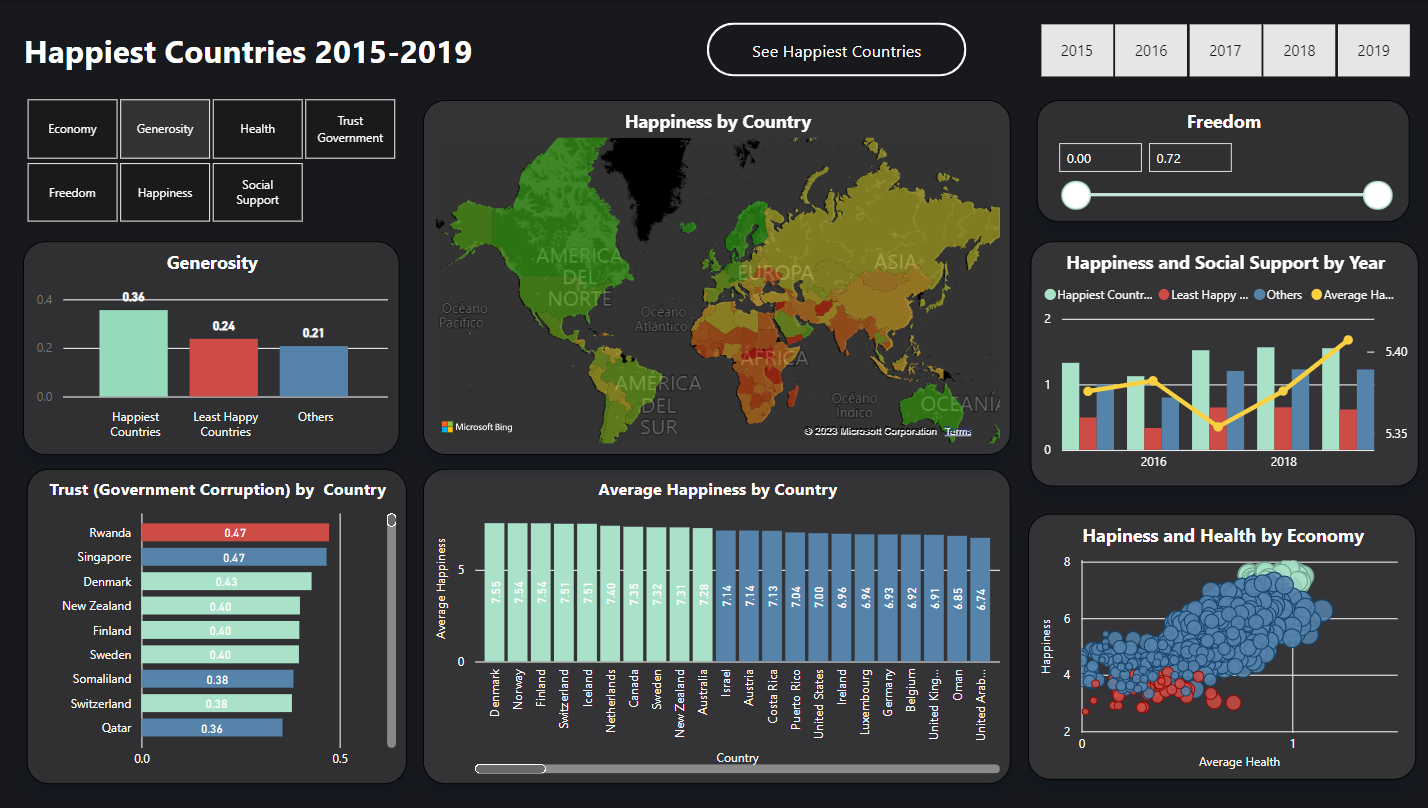

The page's visual inventory and layout, read from the dashboard file:
{"tool":"powerbi","page":{"name":"World Happiness","canvas":[1280,720],"ordinal":0},"visuals":[{"type":"shape","box":[0,0,1279.6,89.2],"z":0},{"type":"scatterChart","title":"Hapiness and Health by Economy","fields":{"Y":["Happiness.Happiness"],"Size":["Avg(Happiness.Economy (GDP per Capita))"],"Series":["Happiness.Country (grupos)"],"X":["Dax Medidas .Average Health"]},"box":[917.5,457.3,345.8,237.1],"z":1000},{"type":"clusteredColumnChart","fields":{"Category":["Happiness.Country (grupos)"],"Y":["Dax Medidas .Total Selección"]},"box":[21.7,214.7,335.3,190.6],"z":3000},{"type":"slicer","title":"Freedom","fields":{"Values":["Happiness.Freedom"]},"box":[924.6,88.9,331.7,108.7],"z":4000},{"type":"columnChart","title":"Average Happiness by Country","fields":{"Category":["Happiness.Country"],"Y":["Dax Medidas .Average Happiness"],"Series":["Happiness.Country (grupos)"]},"box":[378.7,417.3,523.4,281],"z":5000},{"type":"barChart","title":"Trust (Government Corruption) by  Country","fields":{"Series":["Happiness.Country (grupos)"],"Category":["Happiness.Country"],"Y":["Dax Medidas .Average Trust(Government Corruption)"]},"box":[25.4,417.8,338.8,280.9],"z":6000},{"type":"lineClusteredColumnComboChart","title":"Happiness and Social Support by Year","fields":{"Category":["Happiness.Year"],"Y":["Dax Medidas .Average Social Support"],"Series":["Happiness.Country (grupos)"],"Y2":["Dax Medidas .Average Happiness"]},"box":[918.9,214.6,345.8,218.8],"z":7000},{"type":"slicer","fields":{"Values":["Happiness.Year"]},"box":[902.5,13.7,377.8,60.4],"z":8000},{"type":"actionButton","title":"All","box":[630.8,20.5,231.6,48.2],"z":9000},{"type":"filledMap","title":"Happiness by Country ","fields":{"Category":["Happiness.Country"]},"box":[378.7,89.2,523.4,316],"z":10000},{"type":"slicer","fields":{"Values":["metrics.Column2"]},"box":[0,81.4,377.9,123.3],"z":12000}]}

Visuals, with their boxes in screenshot pixels (x1, y1, x2, y2), scaled from the page's 1280x720 canvas onto the 1428x808 screenshot:
shape: <box>0,0,1427,100</box>
"Hapiness and Health by Economy" scatterChart: <box>1024,513,1409,779</box>
clusteredColumnChart - Happiness.Country (grupos) x Dax Medidas .Total Selección: <box>24,241,398,455</box>
"Freedom" slicer: <box>1032,100,1402,222</box>
"Average Happiness by Country" columnChart: <box>422,468,1006,784</box>
"Trust (Government Corruption) by  Country" barChart: <box>28,469,406,784</box>
"Happiness and Social Support by Year" lineClusteredColumnComboChart: <box>1025,241,1411,486</box>
slicer - Happiness.Year: <box>1007,15,1427,83</box>
"All" actionButton: <box>704,23,962,77</box>
"Happiness by Country " filledMap: <box>422,100,1006,455</box>
slicer - metrics.Column2: <box>0,91,422,230</box>
